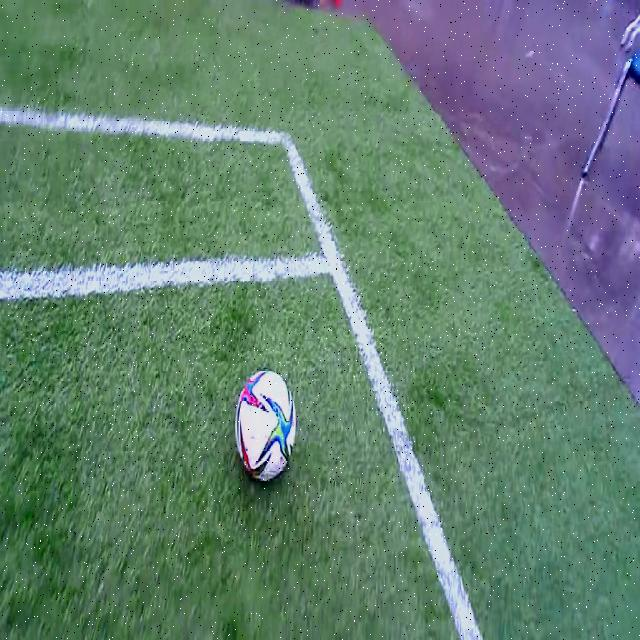ball: (235, 370, 296, 483)
